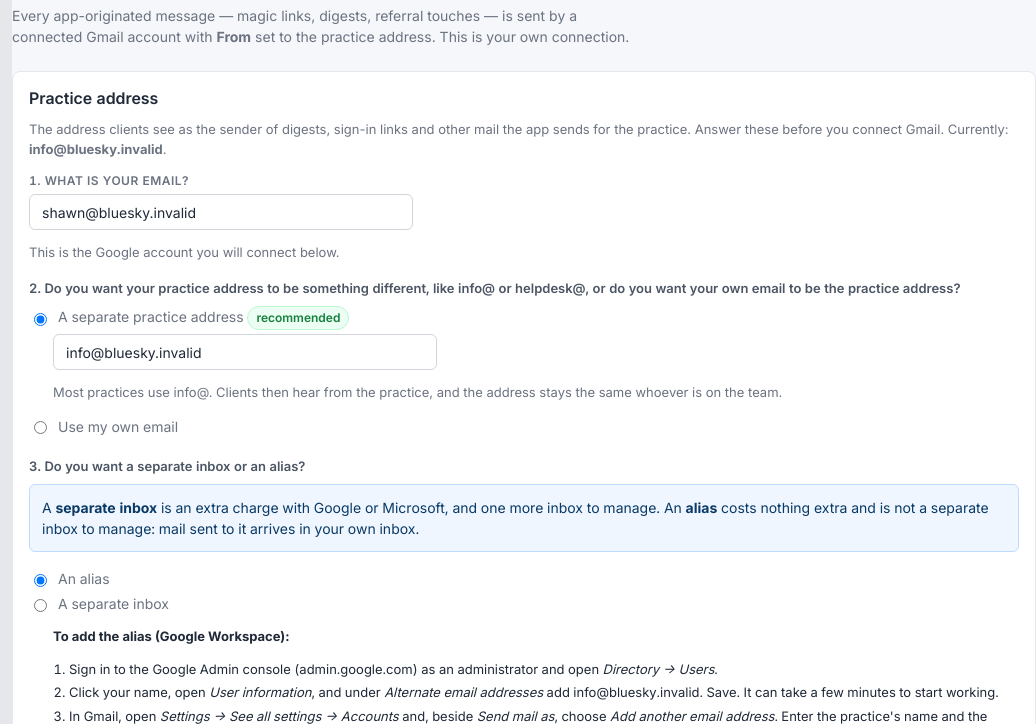
the practice address › shows Gmail's answer when the new address is not on the account
Type "helpdesk@bluesky.invalid" into the field named "Practice address".
click(245, 352); type("helpdesk@bluesky.invalid")  # box [53,334,437,370]
(page scrolled)
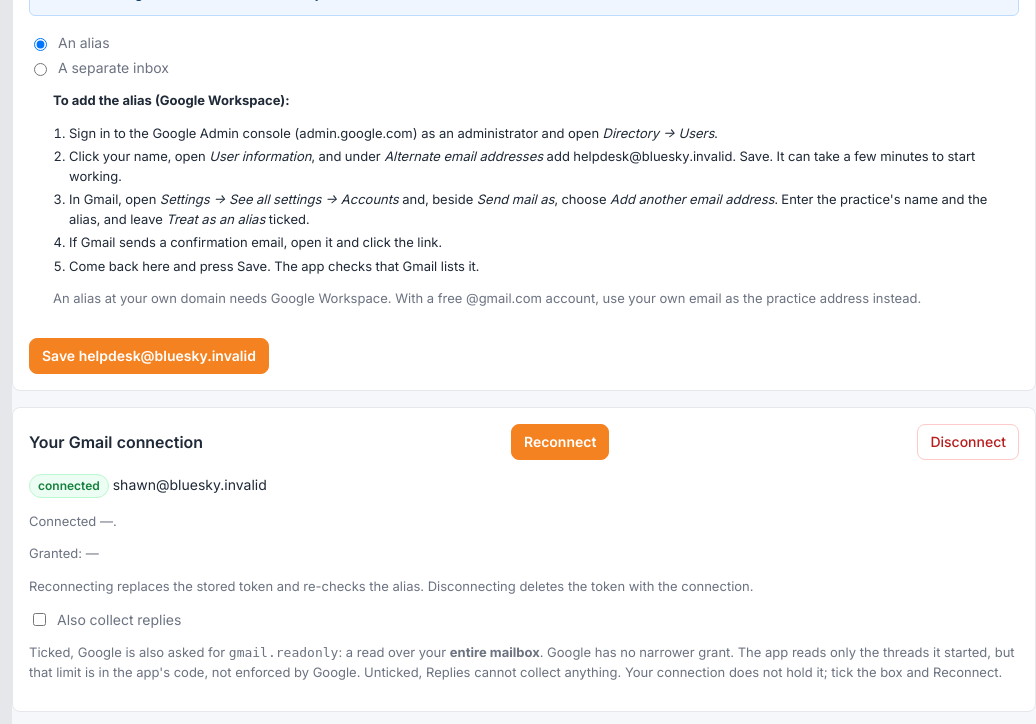
Click the button "Save helpdesk@bluesky.invalid".
click(149, 356)  # box [29,338,269,374]
(page scrolled)
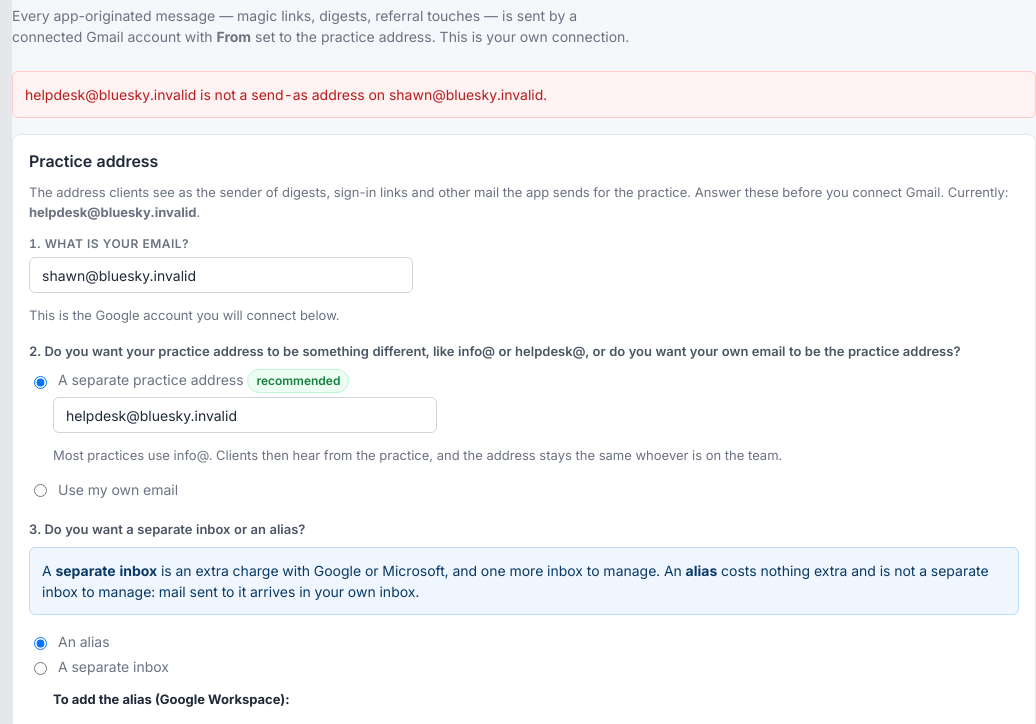
expect the field named "What is your email?" is shown: met, box [29,257,413,293]
expect the text "is not a send-as address on shawn@bluesky.invalid" is shown: met, box [25,86,547,103]
